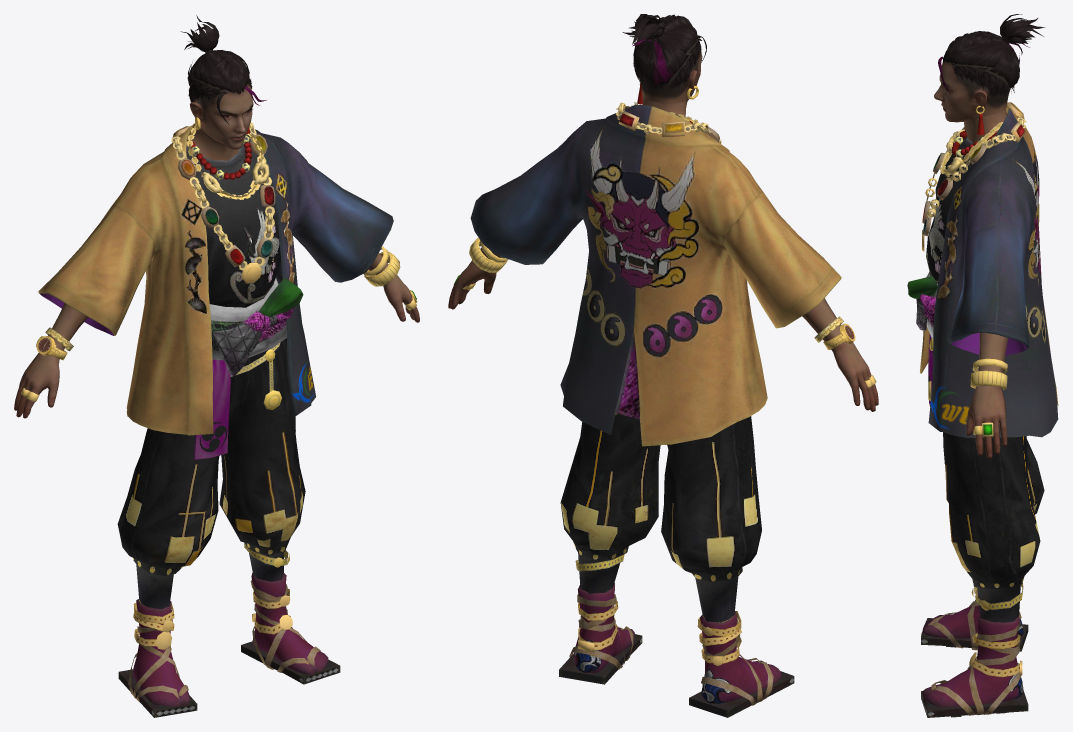
File: Yakuza Male.obj
3 renders of one model, left to right at view 1: azimuth 30°, elevation 25°; view 2: azimuth 150°, elevation 25°; view 3: azimuth 270°, elevation 25°, orthographic. The views are drawn at different scales.
Parts seen in each view (by area): view 1: Male_Lobby_Top_Cos_Yakuza.001, Male_Lobby_Bottom_Cos_Yakuza, Male_Lobby_Shoe_Cos_Yakuza, Male_Lobby_Top_Cos_Yakuza, Male_Lobby_Hair_Cos_Yakuza, Male_Lobby_Head_Sc_Hayato_Awakening; view 2: Male_Lobby_Top_Cos_Yakuza.001, Male_Lobby_Bottom_Cos_Yakuza, Male_Lobby_Shoe_Cos_Yakuza, Male_Lobby_Hair_Cos_Yakuza, Male_Lobby_Top_Cos_Yakuza, Male_Lobby_Head_Sc_Hayato_Awakening; view 3: Male_Lobby_Top_Cos_Yakuza.001, Male_Lobby_Bottom_Cos_Yakuza, Male_Lobby_Shoe_Cos_Yakuza, Male_Lobby_Hair_Cos_Yakuza, Male_Lobby_Top_Cos_Yakuza, Male_Lobby_Head_Sc_Hayato_Awakening.
Boxes of the visible parts, <box> form: Male_Lobby_Top_Cos_Yakuza.001: <box>21,122,416,435</box>; Male_Lobby_Bottom_Cos_Yakuza: <box>117,338,305,609</box>; Male_Lobby_Shoe_Cos_Yakuza: <box>118,572,340,717</box>; Male_Lobby_Top_Cos_Yakuza: <box>14,128,419,418</box>; Male_Lobby_Hair_Cos_Yakuza: <box>180,15,266,124</box>; Male_Lobby_Head_Sc_Hayato_Awakening: <box>190,82,253,149</box>; Male_Lobby_Top_Cos_Yakuza.001: <box>453,102,876,446</box>; Male_Lobby_Bottom_Cos_Yakuza: <box>560,414,761,622</box>; Male_Lobby_Shoe_Cos_Yakuza: <box>559,583,794,717</box>; Male_Lobby_Hair_Cos_Yakuza: <box>622,14,706,91</box>; Male_Lobby_Top_Cos_Yakuza: <box>448,96,878,411</box>; Male_Lobby_Head_Sc_Hayato_Awakening: <box>639,37,702,104</box>; Male_Lobby_Top_Cos_Yakuza.001: <box>907,102,1058,437</box>; Male_Lobby_Bottom_Cos_Yakuza: <box>928,334,1044,622</box>; Male_Lobby_Shoe_Cos_Yakuza: <box>921,589,1028,717</box>; Male_Lobby_Hair_Cos_Yakuza: <box>938,14,1045,98</box>; Male_Lobby_Top_Cos_Yakuza: <box>964,105,1008,458</box>; Male_Lobby_Head_Sc_Hayato_Awakening: <box>934,61,1010,122</box>.
Bounding box in the file's own units: 0.6526 × 1 × 0.2087.
7 materials, 7 textured.
